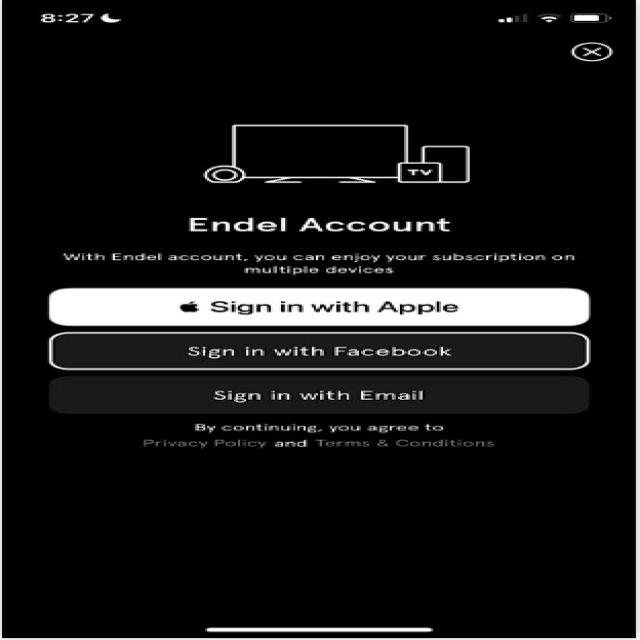button: (30, 279, 619, 329), (24, 376, 626, 421), (30, 332, 619, 374)
icon button: (569, 33, 633, 70)
image: (35, 76, 602, 276)
text: (106, 425, 556, 466)
